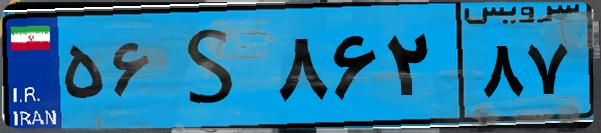2: (385, 28, 445, 110)
5: (57, 26, 110, 100)
6: (330, 28, 385, 110), (110, 28, 158, 98)
7: (525, 38, 570, 115)
8: (270, 28, 330, 110), (475, 38, 525, 113)
S: (158, 12, 270, 120)
